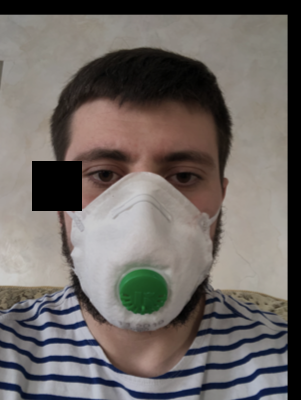with_mask: (65, 126, 218, 332)
